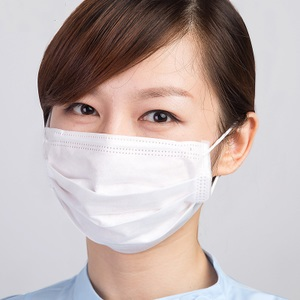face_mask: (43, 29, 215, 246)
